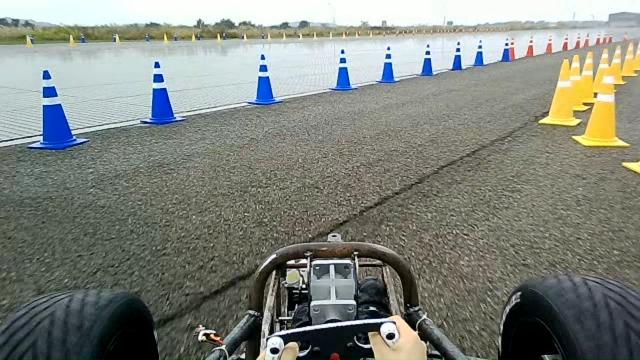blue cone: (26, 69, 89, 150), (139, 60, 186, 125), (247, 53, 284, 105), (328, 49, 358, 90), (375, 46, 400, 84), (419, 43, 436, 76), (450, 41, 466, 71), (472, 39, 487, 66), (498, 37, 512, 62)
yellow cone: (574, 71, 630, 152), (538, 58, 582, 126)
